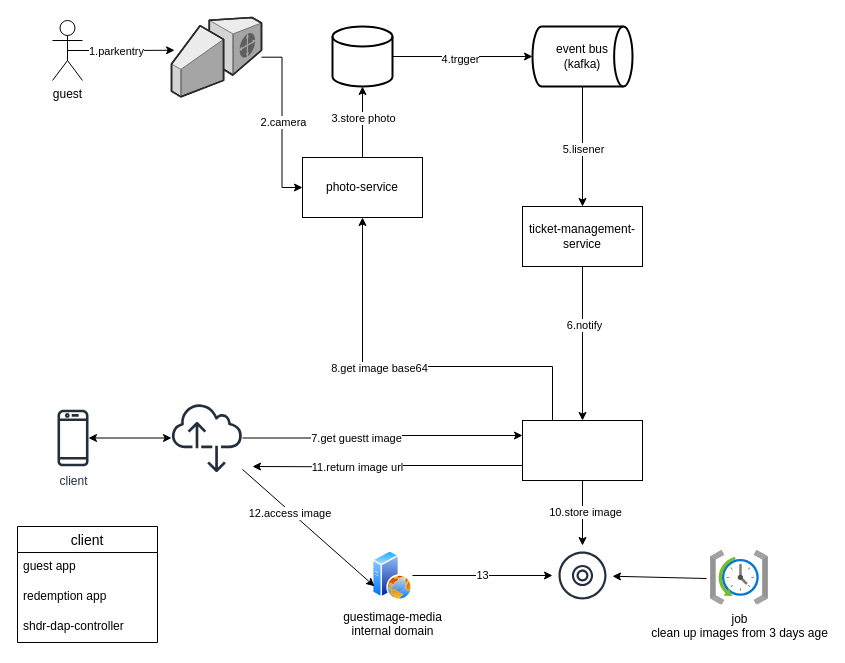
The diagram is 845 pixels wide and 663 high, and some of its shapes have lost their labels. Here are the shapes that lost their labels. From the top down, the box of each, then its label:
(331, 25, 393, 87): galaxy db
(171, 402, 242, 473): APIM
(522, 420, 642, 480): shdr-guestimage-service
(552, 544, 612, 606): NAS
